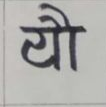o_matra: (53, 5, 84, 68)
